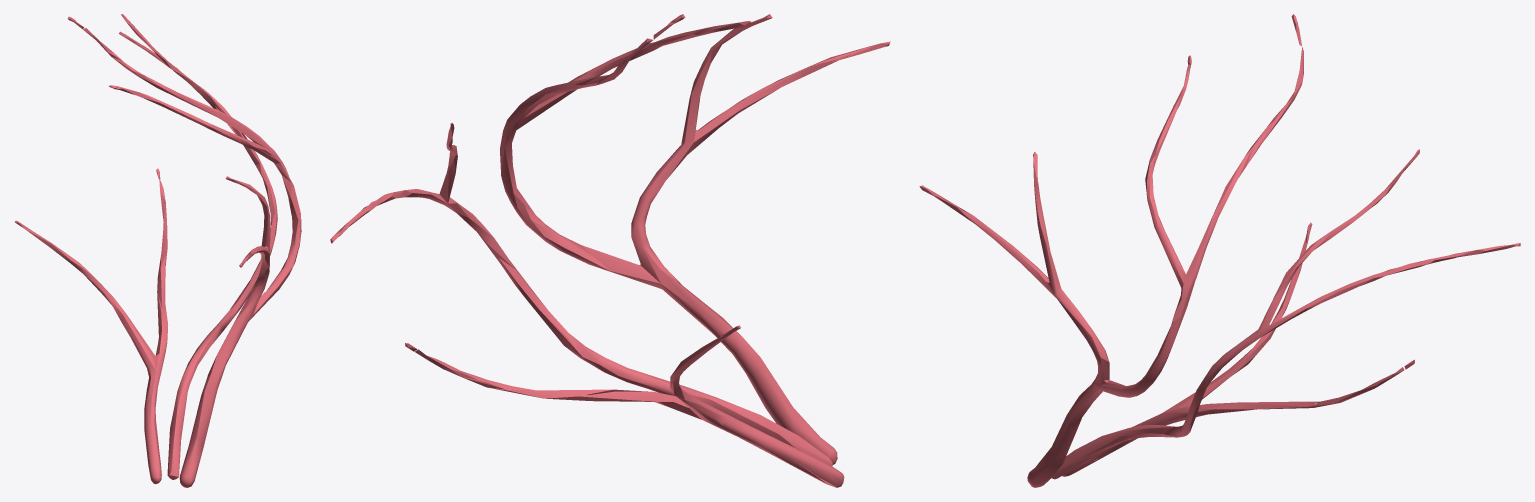
The model's file is fma50378_cx93.glb.
3 views of the same model, side by side, from view 1: azimuth 30°, elevation 25°; view 2: azimuth 150°, elevation 25°; view 3: azimuth 270°, elevation 25° (orthographic). The views are drawn at different scales.
Parts seen in each view (by area): view 1: FMA50378_CX93; view 2: FMA50378_CX93; view 3: FMA50378_CX93.
Boxes of the visible parts, left/top/right/bottom form: FMA50378_CX93: left=15, top=14, right=301, bottom=487; FMA50378_CX93: left=330, top=14, right=890, bottom=487; FMA50378_CX93: left=919, top=14, right=1520, bottom=487.
Bounding box in the file's own units: 0.0216 × 0.0359 × 0.0418.
